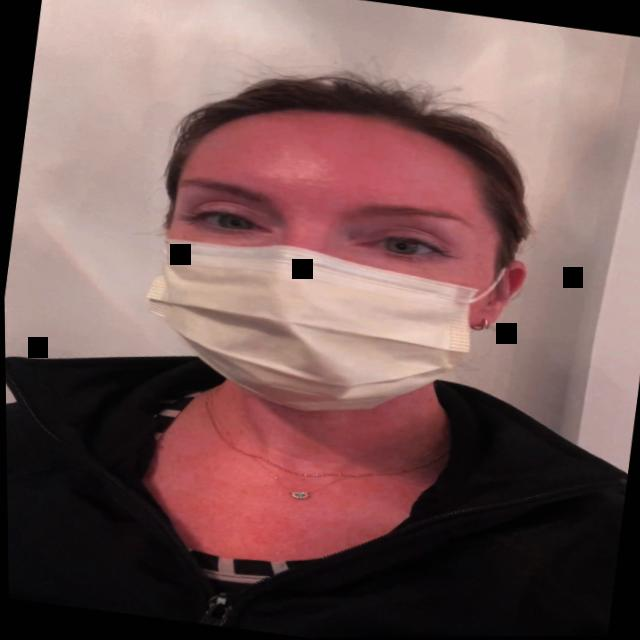Mask: (98, 52, 576, 455)
